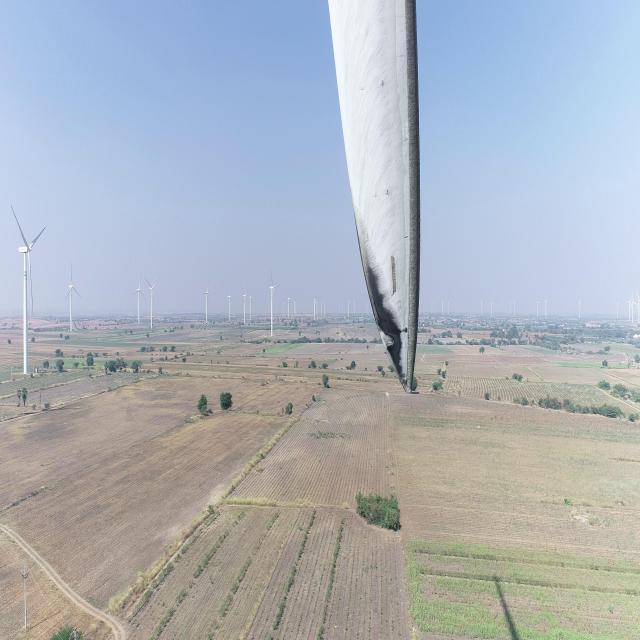Dirt: (327, 2, 425, 390)
Oil LEAKAGE: (367, 270, 406, 388)
Pin Hole: (382, 187, 392, 200), (378, 78, 386, 90)
